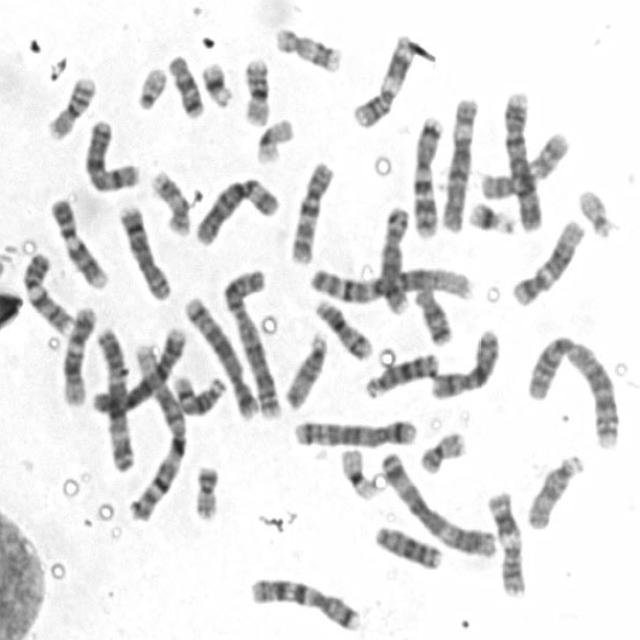A1: (124, 331, 190, 523), (303, 258, 477, 306)
A2: (522, 326, 625, 452), (218, 263, 284, 423)
A3: (375, 444, 502, 558), (91, 321, 136, 473)
B4: (88, 322, 188, 417), (500, 84, 548, 232)
B5: (181, 288, 262, 419), (290, 412, 419, 450)
C10: (477, 125, 573, 201), (284, 154, 337, 266)
C11: (347, 29, 418, 131), (483, 486, 528, 598)
C12: (507, 212, 588, 308), (58, 301, 98, 408)
C6: (190, 170, 282, 248), (438, 91, 482, 234)
C7: (245, 570, 365, 634), (408, 108, 447, 240)
C8: (113, 198, 174, 302), (373, 198, 412, 318)
C9: (45, 191, 111, 291), (18, 245, 76, 338)
D13: (360, 346, 440, 399), (368, 517, 445, 571)
D14: (308, 291, 376, 362), (168, 369, 227, 417)
D15: (523, 448, 588, 532), (280, 325, 330, 411)
E16: (44, 69, 99, 141), (236, 51, 272, 128)
E17: (271, 20, 346, 75), (148, 164, 195, 238)
E18: (409, 281, 456, 347), (163, 48, 206, 119)
F19: (336, 440, 382, 501), (252, 111, 297, 166)
F20: (414, 424, 470, 475), (189, 459, 223, 522)
G21: (464, 195, 518, 237), (197, 55, 236, 109)
G22: (574, 182, 616, 240), (132, 60, 169, 111)
X: (426, 322, 502, 402), (79, 114, 141, 194)
